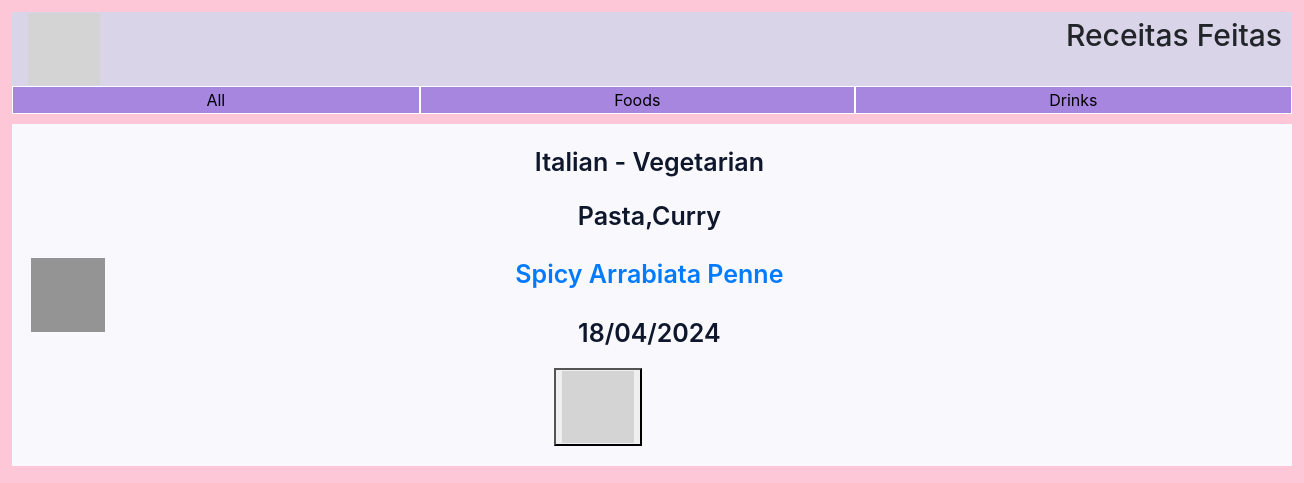
Test: Testes de favorito e página de receitas favoritas › a receita de comida mostra ao ir na pagina de receitas feitas
The width and height of the screenshot is (1304, 483).
Expected: the text "Spicy Arrabiata Penne" is shown, [515,259,783,289]
Expected: the button "All" is shown, [12,86,420,114]
Step 1. Click the button "Drinks" → (1073, 100), box [855,86,1292,114]
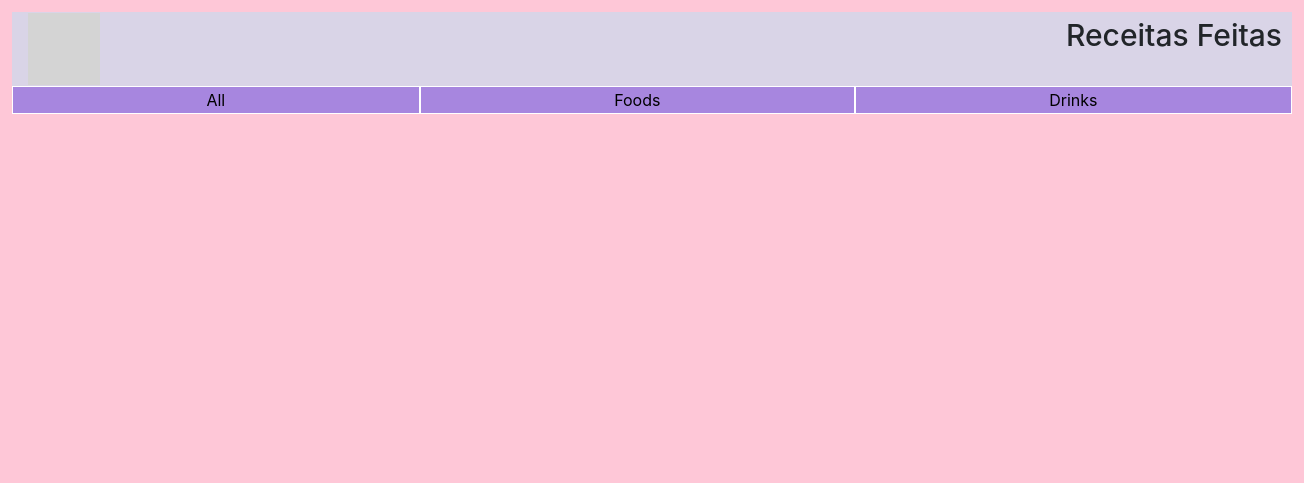
Now the link "Spicy Arrabiata Penne" is gone
Step 2. Click the button "All" → (216, 100), box [12,86,420,114]
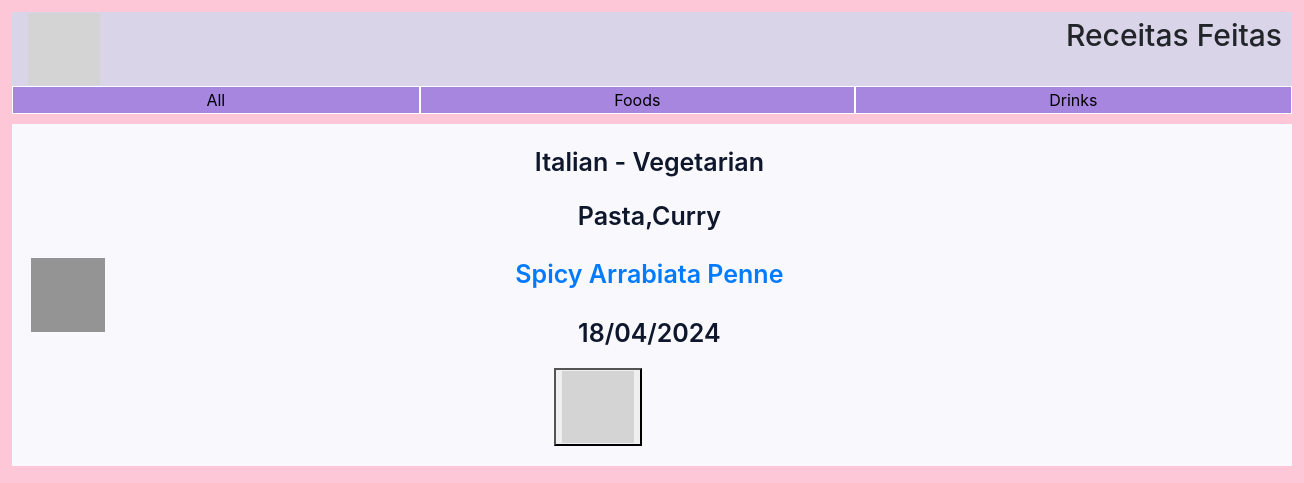
Now the text "Spicy Arrabiata Penne" is shown, box [515,259,783,289]
